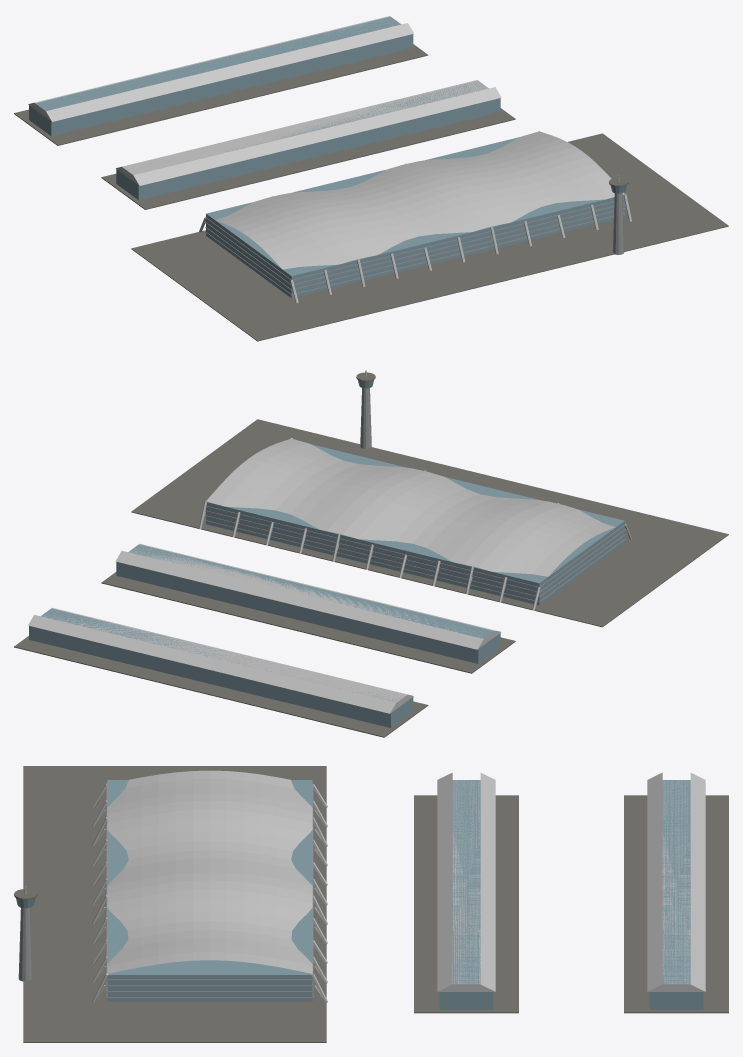
The model's file is heathrow_terminal.glb.
3 renders of one model, top to bottom at view 1: azimuth 30°, elevation 25°; view 2: azimuth 150°, elevation 25°; view 3: azimuth 270°, elevation 25°, orthographic. The views are drawn at different scales.
Visible parts, largest first — view 1: heathrow_terminal; view 2: heathrow_terminal; view 3: heathrow_terminal.
Part boxes in pixels (box(x1,y1,x2,y2)): heathrow_terminal: box(14, 16, 728, 341); heathrow_terminal: box(14, 370, 728, 737); heathrow_terminal: box(14, 766, 728, 1042).
Size of the model in its own units: 560 by 88.13 by 613.
